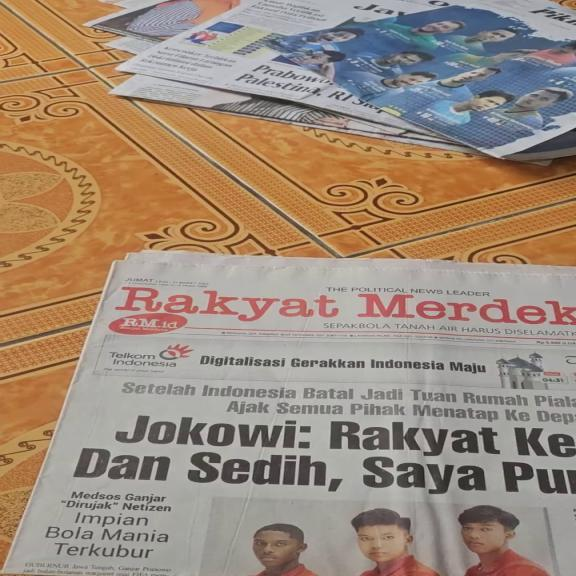Kertas: (117, 263, 568, 576), (138, 1, 566, 95)
